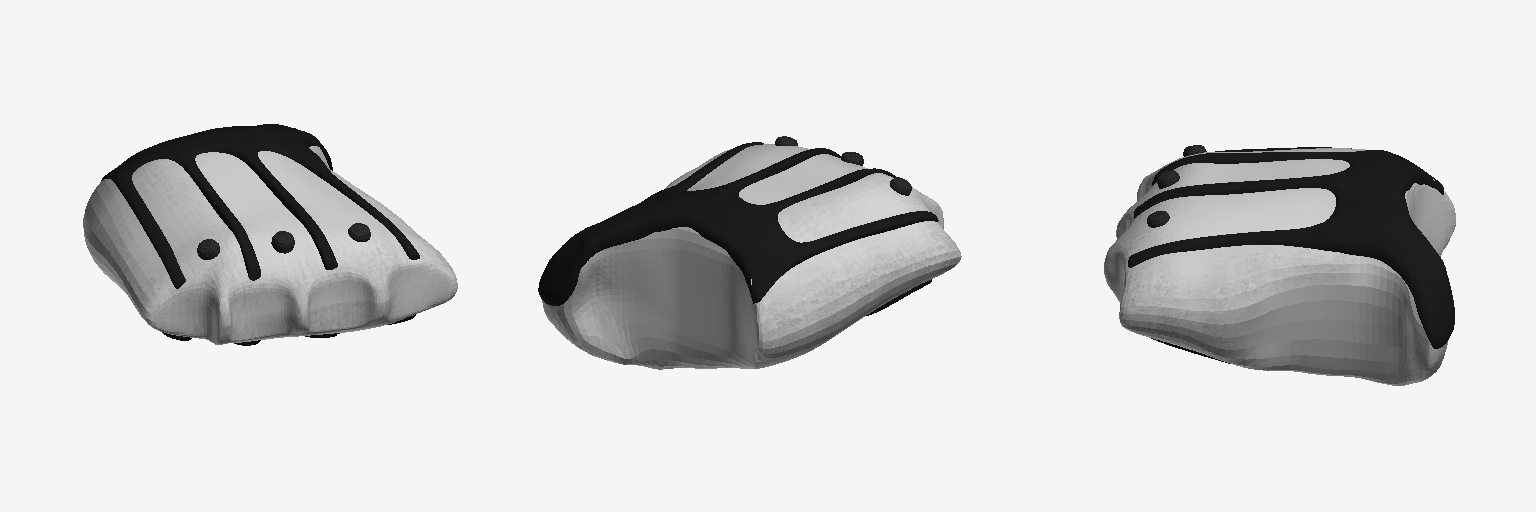
The picture shows the model from 3 angles: view 1: azimuth 30°, elevation 25°; view 2: azimuth 150°, elevation 25°; view 3: azimuth 270°, elevation 25°; orthographic projection.
Parts seen in each view (by area): view 1: palm; view 2: palm; view 3: palm.
Boxes of the visible parts, x1,y1,x2,y2 form: palm: [83, 124, 457, 345]; palm: [538, 136, 961, 369]; palm: [1104, 145, 1455, 385].
Bounding box in the file's own units: 0.0811 × 0.0443 × 0.0812.
Materials: 1 (1 with a texture image).